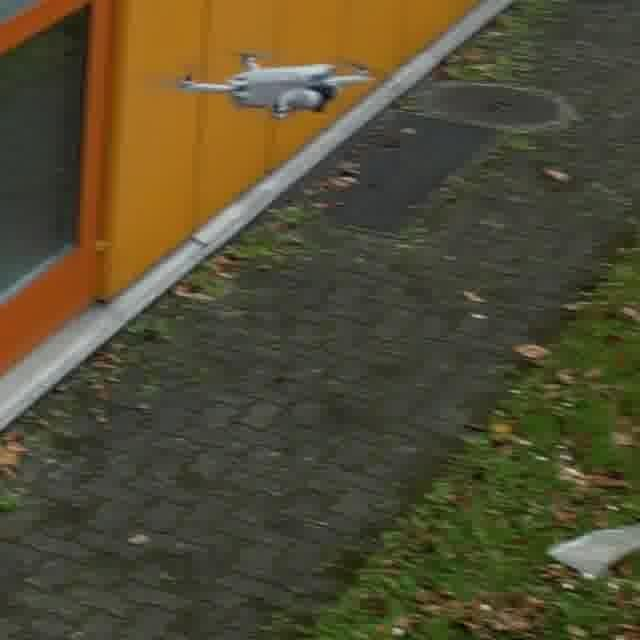Drohne: (176, 52, 370, 118)
